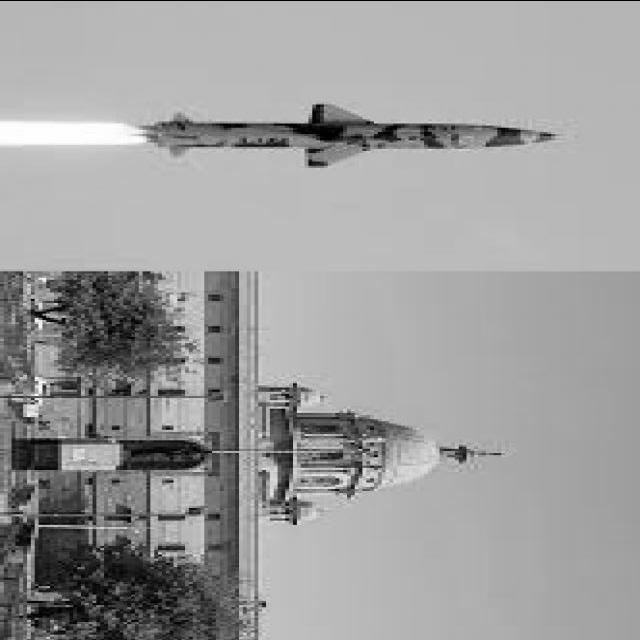missile: (114, 103, 570, 170)
